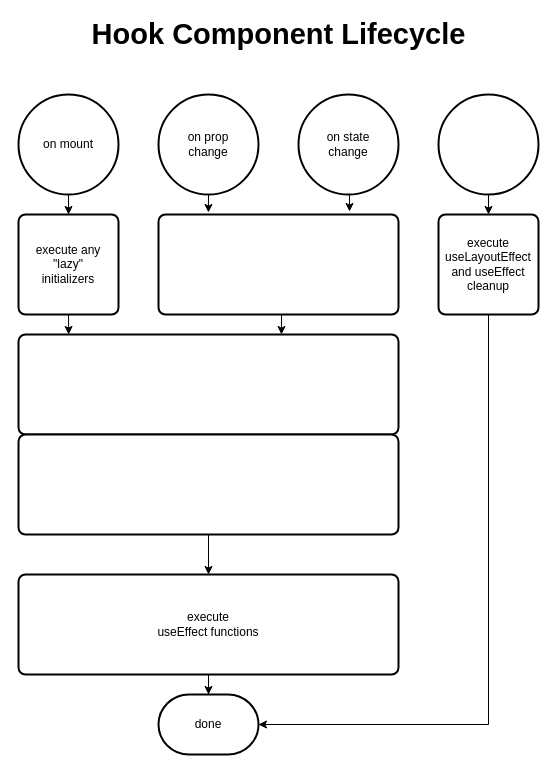
This 556x773 diagram has some shape labels left out. Here are the shapes that lost their labels. From the top down, the centre of each, then its label:
At [488,144]: "on unmount".
At [278,264]: "execute useLayoutEffect and useEffect cleanup (1)".
At [208,384]: "render".
At [208,484]: "execute useLayoutEffect functions".
